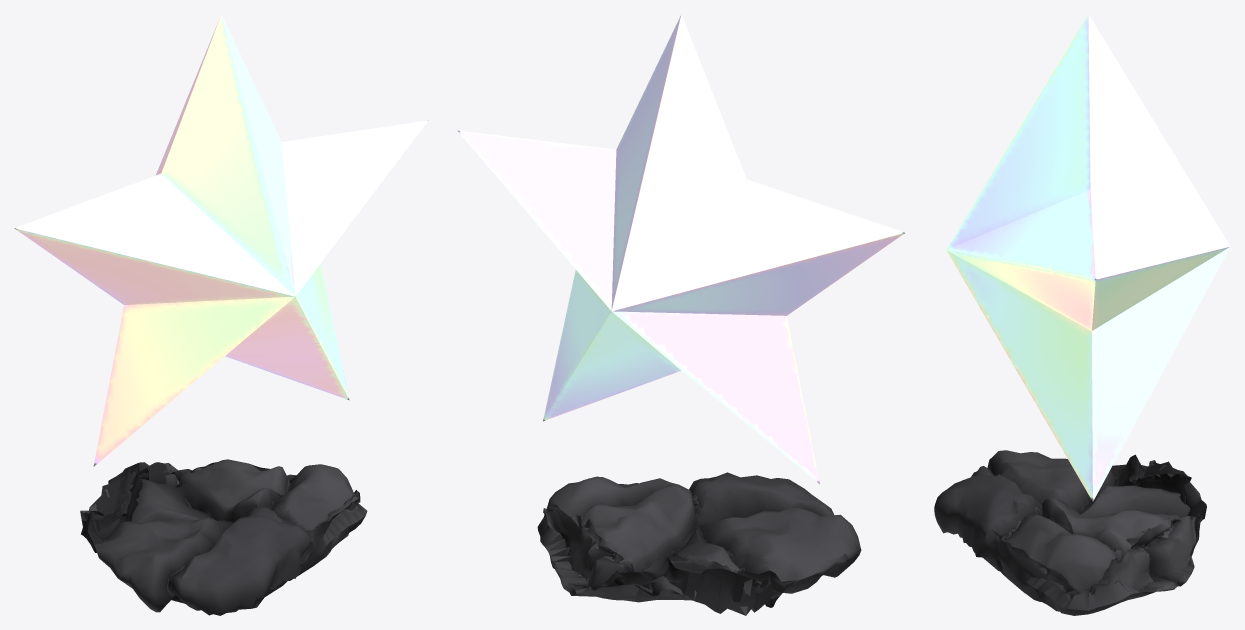
The model's file is diamante_estrella.fbx.
The picture shows the model from 3 angles, left to right: view 1: azimuth 30°, elevation 25°; view 2: azimuth 150°, elevation 25°; view 3: azimuth 270°, elevation 25°; orthographic projection. The views are drawn at different scales.
Visible parts, largest first — view 1: diamante_estrella_cristal, diamante_estrella; view 2: diamante_estrella_cristal, diamante_estrella; view 3: diamante_estrella_cristal, diamante_estrella.
Boxes of the visible parts, box(x1,y1,x2,y2) form: diamante_estrella_cristal: box(14, 14, 428, 466); diamante_estrella: box(80, 459, 367, 615); diamante_estrella_cristal: box(458, 14, 904, 483); diamante_estrella: box(537, 472, 861, 615); diamante_estrella_cristal: box(946, 14, 1230, 501); diamante_estrella: box(934, 450, 1206, 615).
Size of the model in its own units: 3.12 by 3.84 by 1.88.
2 materials, 2 textured.
